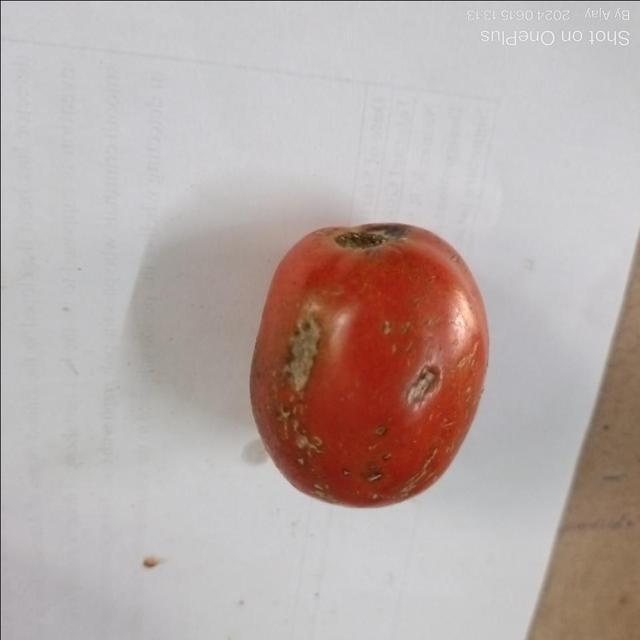Bacterial Spot Fruit: (16, 12, 281, 316)
